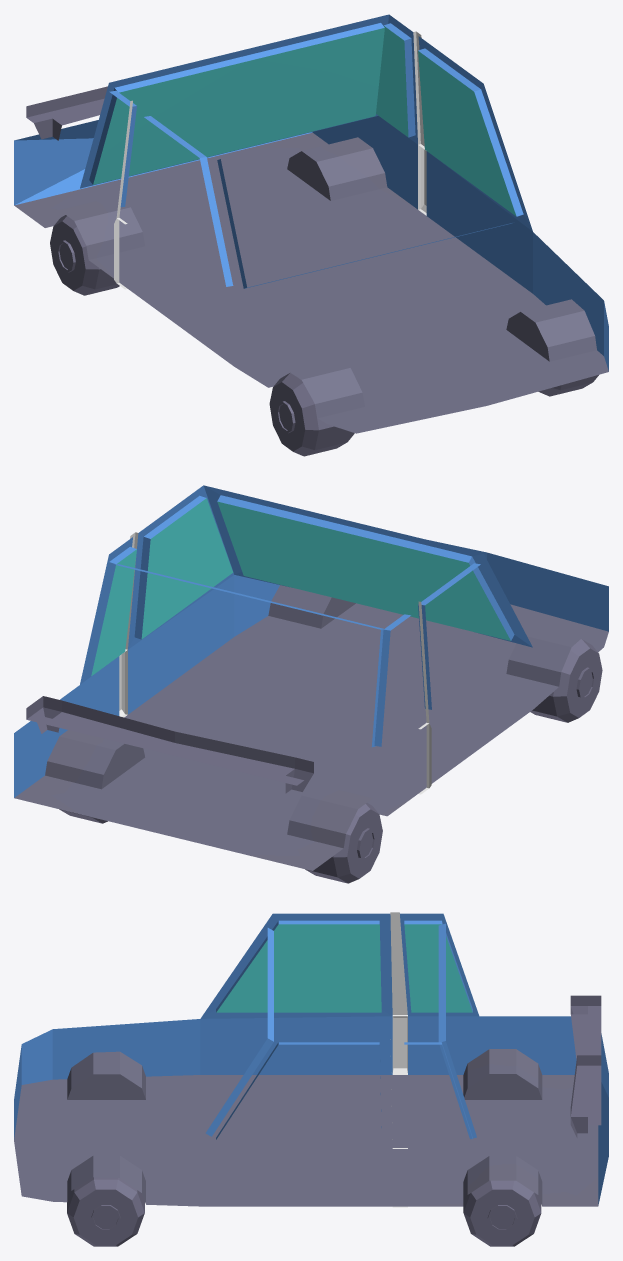
The model's file is simple-car-short.glb.
3 renders of one model, top to bottom at view 1: azimuth 30°, elevation 25°; view 2: azimuth 150°, elevation 25°; view 3: azimuth 270°, elevation 25°, orthographic. The views are drawn at different scales.
Parts seen in each view (by area): view 1: Cube.001, FrontWheels.001_Cylinder.001, FrontWheels.000_Cylinder.000; view 2: Cube.001, FrontWheels.001_Cylinder.001, FrontWheels.000_Cylinder.000; view 3: Cube.001, FrontWheels.001_Cylinder.001, FrontWheels.000_Cylinder.000.
Boxes of the visible parts, x1=… form: Cube.001: x1=14, y1=14, x2=608, y2=433; FrontWheels.001_Cylinder.001: x1=269, y1=373, x2=598, y2=456; FrontWheels.000_Cylinder.000: x1=50, y1=215, x2=119, y2=295; Cube.001: x1=14, y1=485, x2=608, y2=870; FrontWheels.001_Cylinder.001: x1=530, y1=639, x2=602, y2=722; FrontWheels.000_Cylinder.000: x1=59, y1=803, x2=382, y2=883; Cube.001: x1=14, y1=912, x2=608, y2=1207; FrontWheels.001_Cylinder.001: x1=67, y1=1177, x2=144, y2=1246; FrontWheels.000_Cylinder.000: x1=463, y1=1180, x2=541, y2=1246.
Bounding box in the file's own units: 2.19 × 1.57 × 4.03.
Materials: 1 (1 with a texture image).
